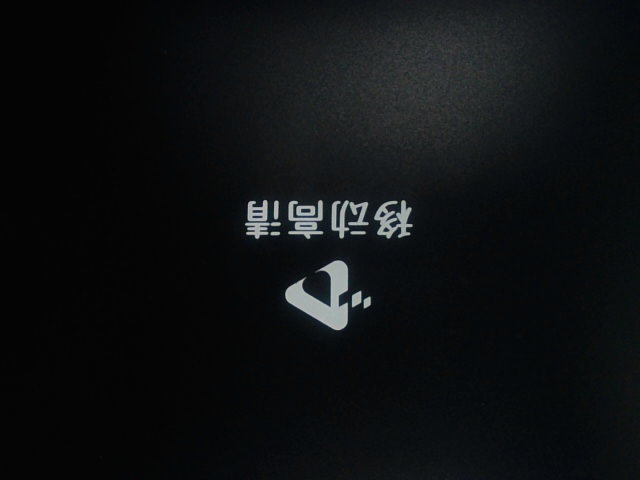AO_MobileHD: (228, 184, 431, 346)
